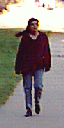person: (11, 16, 52, 108)
